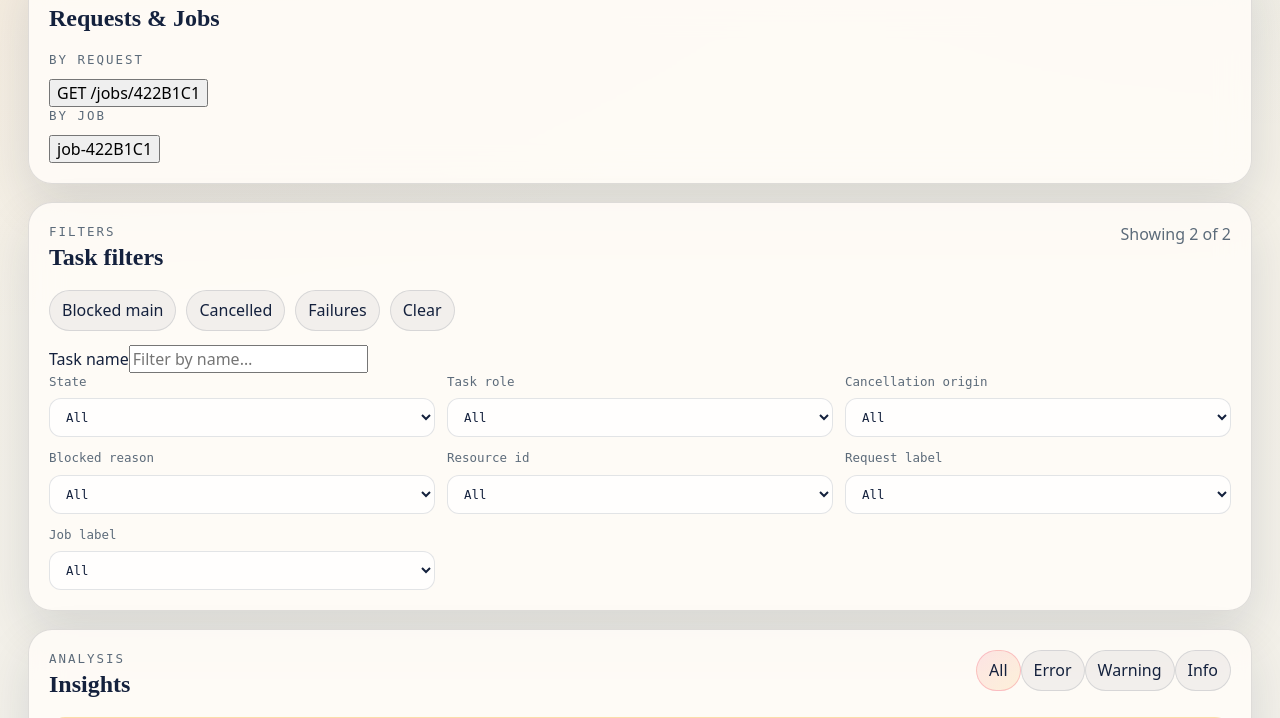
App › task name search narrows the task list and clears on reset
(page scrolled)
Expected: the text "Showing 2 of 2" is shown, [1121,223,1231,246]
Note: Type a substring that matches only worker-1
Type "worker-1" into the search field labelled "Task name".
click(248, 359); type("worker-1")  # box [129,345,368,373]
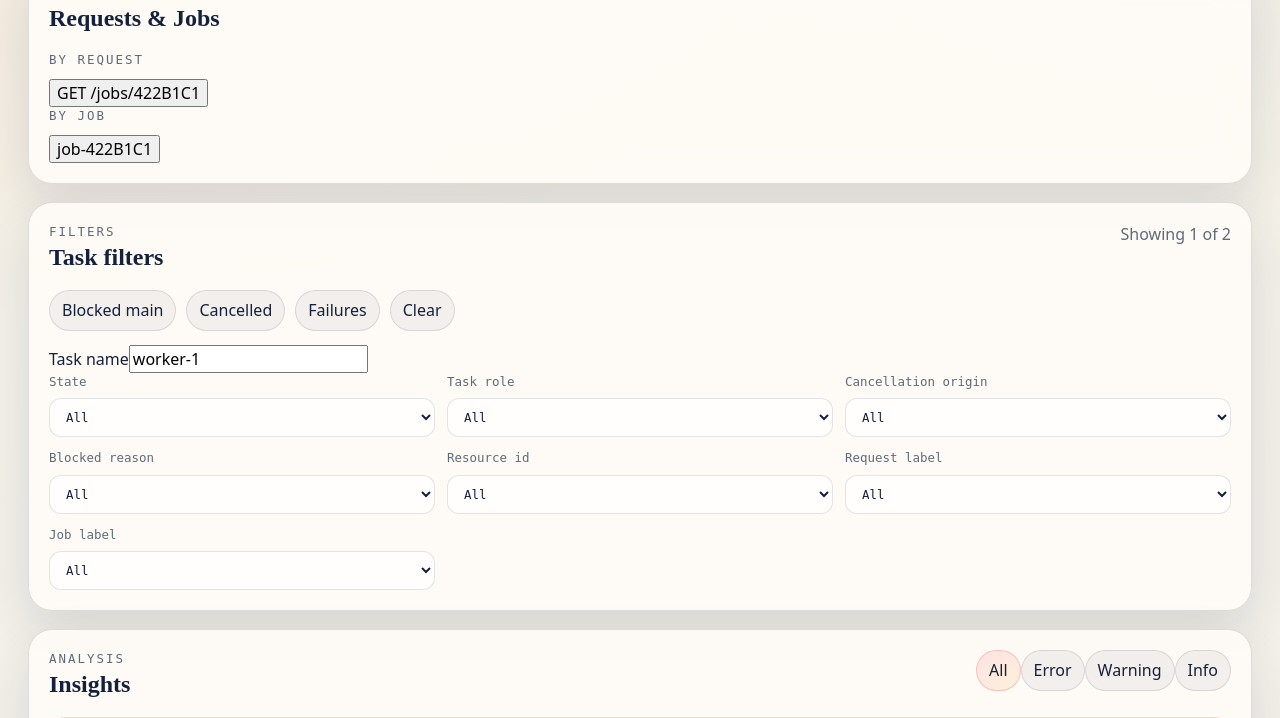
Result: the text "Showing 1 of 2" is shown at [1121,223,1231,246]
Note: Clearing via the Clear button resets search
Click the button "Clear".
click(422, 310)  # box [390,290,454,331]
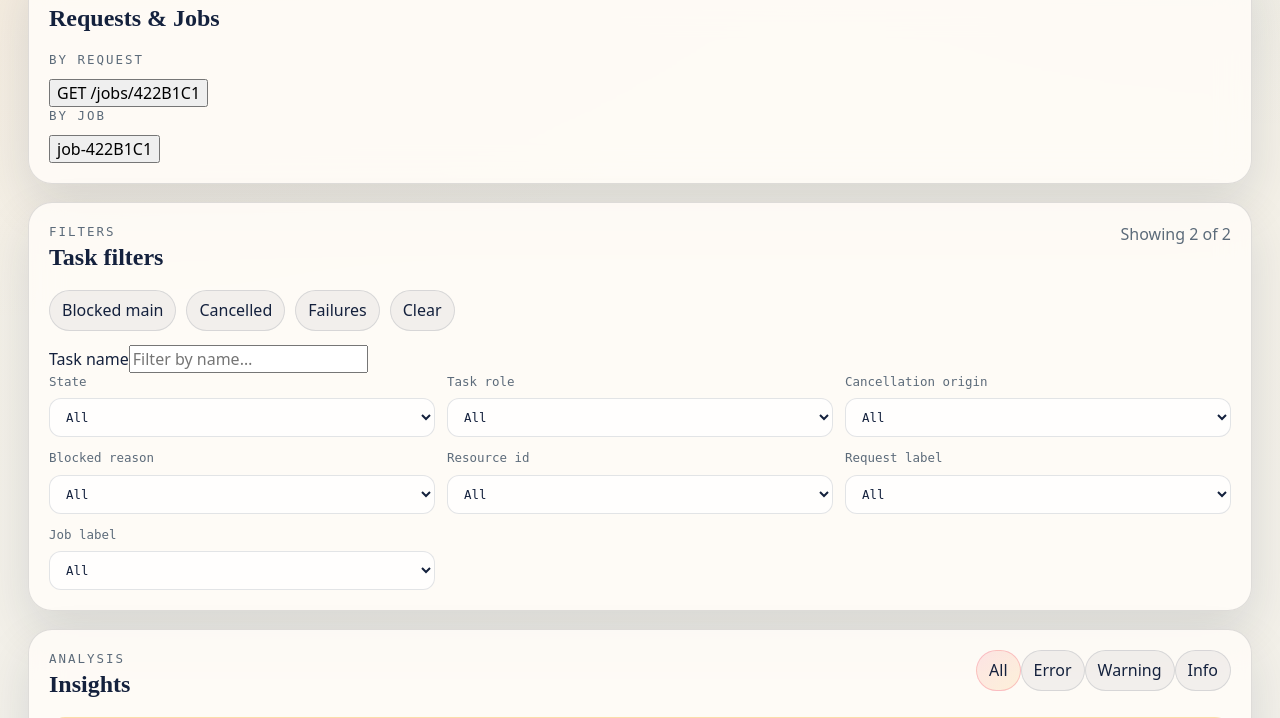
Result: the text "Showing 2 of 2" is shown at [1121,223,1231,246]
Result: the search field labelled "Task name" is empty at [129,345,368,373]
